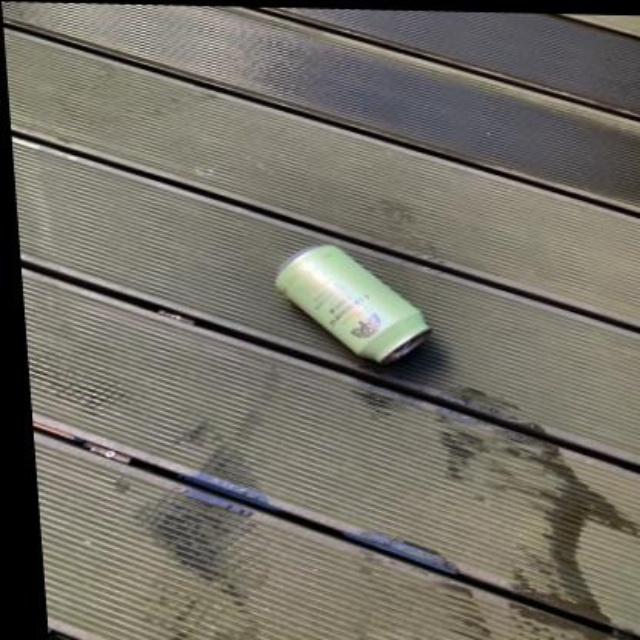trash: (275, 245, 428, 363)
